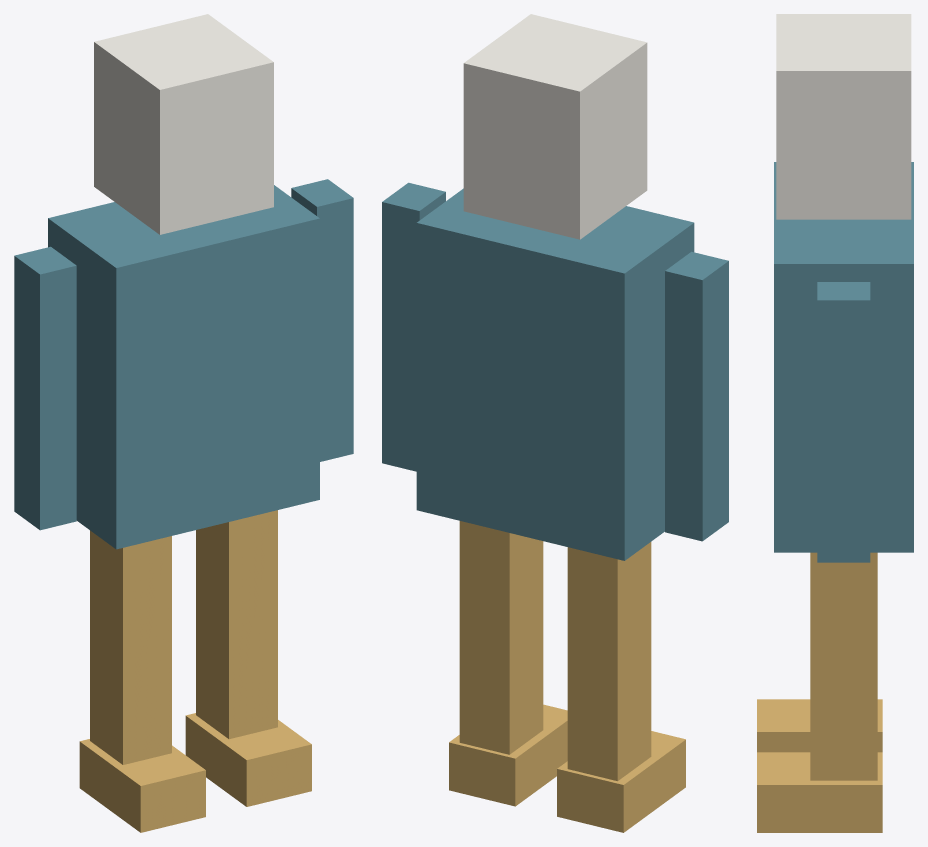
Rendered from sample-sculpture.gltf.
The picture shows the model from 3 angles, left to right: view 1: azimuth 30°, elevation 25°; view 2: azimuth 150°, elevation 25°; view 3: azimuth 270°, elevation 25°; orthographic projection. The views are drawn at different scales.
Parts seen in each view (by area): view 1: Coat, Head, Left leg, Right leg, Left arm, Right arm, Left shoe, Right shoe; view 2: Coat, Head, Left leg, Right leg, Left arm, Right arm, Left shoe, Right shoe; view 3: Coat, Head, Right arm, Right leg, Right shoe, Left shoe.
Boxes of the visible parts, left/top/right/bottom form: Coat: left=48, top=185, right=319, bottom=549; Head: left=94, top=14, right=273, bottom=234; Left leg: left=90, top=530, right=171, bottom=764; Right leg: left=196, top=510, right=277, bottom=739; Left arm: left=14, top=246, right=76, bottom=530; Right arm: left=291, top=179, right=353, bottom=461; Left shoe: left=79, top=739, right=205, bottom=832; Right shoe: left=185, top=713, right=311, bottom=806; Coat: left=416, top=188, right=694, bottom=560; Head: left=463, top=14, right=647, bottom=239; Left leg: left=567, top=542, right=651, bottom=781; Right leg: left=459, top=521, right=543, bottom=754; Left arm: left=665, top=251, right=728, bottom=541; Right arm: left=382, top=182, right=445, bottom=471; Left shoe: left=557, top=731, right=685, bottom=832; Right shoe: left=449, top=704, right=567, bottom=806; Coat: left=774, top=162, right=913, bottom=552; Head: left=776, top=14, right=911, bottom=219; Right arm: left=817, top=282, right=870, bottom=562; Right leg: left=810, top=552, right=877, bottom=780; Right shoe: left=757, top=752, right=882, bottom=832; Left shoe: left=757, top=699, right=882, bottom=752.
Bounding box in the file's own units: 0.77 × 1.71 × 0.325.
